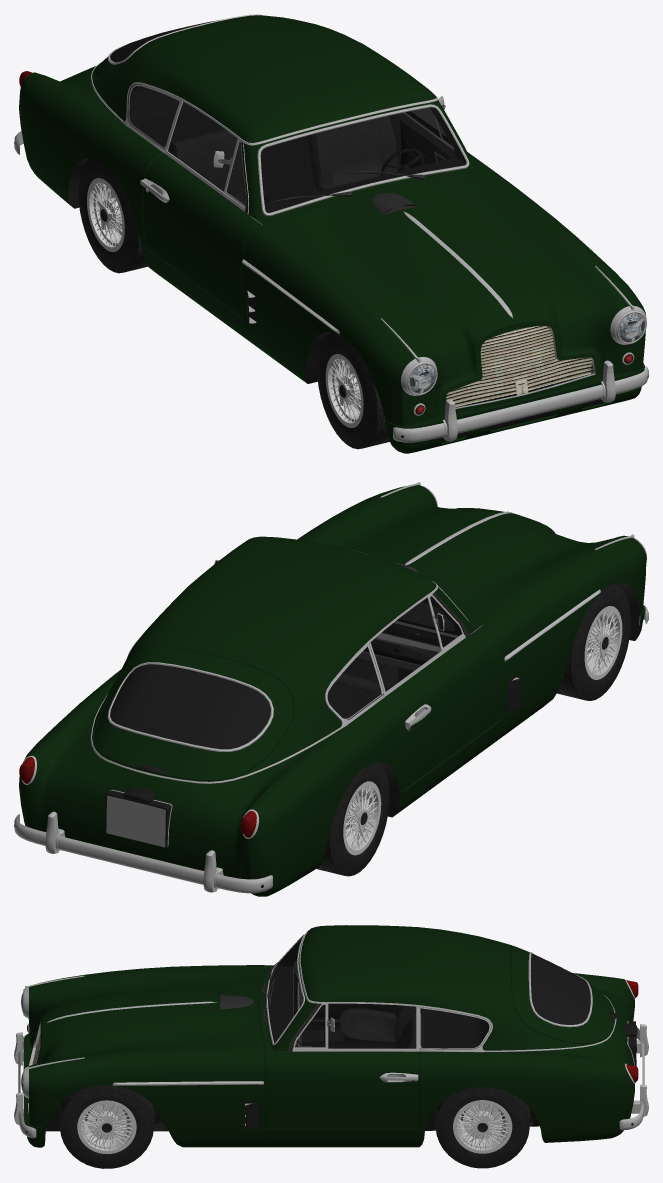
Rendered from Car_5.FBX.
3 renders of one model, top to bottom at view 1: azimuth 30°, elevation 25°; view 2: azimuth 150°, elevation 25°; view 3: azimuth 270°, elevation 25°, orthographic. The views are drawn at different scales.
Visible parts, largest first — view 1: Body, Door_R, Wheel_FR, Wheel_BR, Door_L; view 2: Body, Door_R, Wheel_FR, Wheel_BR; view 3: Body, Door_L, Wheel_FL, Wheel_BL, Door_R.
Part boxes in pixels (x1,y1,x2,y2): Body: [14, 14, 648, 453]; Door_R: [140, 100, 261, 318]; Wheel_FR: [317, 332, 389, 449]; Wheel_BR: [78, 158, 147, 273]; Door_L: [394, 96, 494, 171]; Body: [14, 482, 648, 896]; Door_R: [369, 594, 504, 790]; Wheel_FR: [557, 584, 630, 700]; Wheel_BR: [316, 762, 389, 876]; Body: [14, 925, 648, 1147]; Door_L: [265, 1003, 419, 1128]; Wheel_FL: [60, 1085, 153, 1168]; Wheel_BL: [435, 1087, 529, 1168]; Door_R: [265, 961, 394, 1030].
Bounding box in the file's own units: 54.05 × 40.64 × 138.
